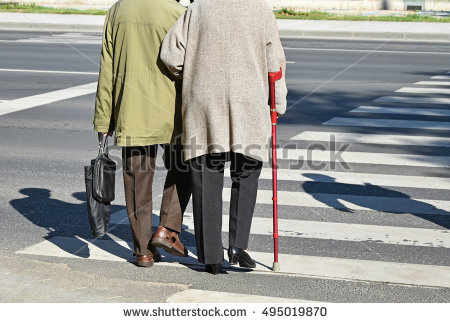pedestrian: (157, 1, 290, 276), (89, 1, 198, 269)
